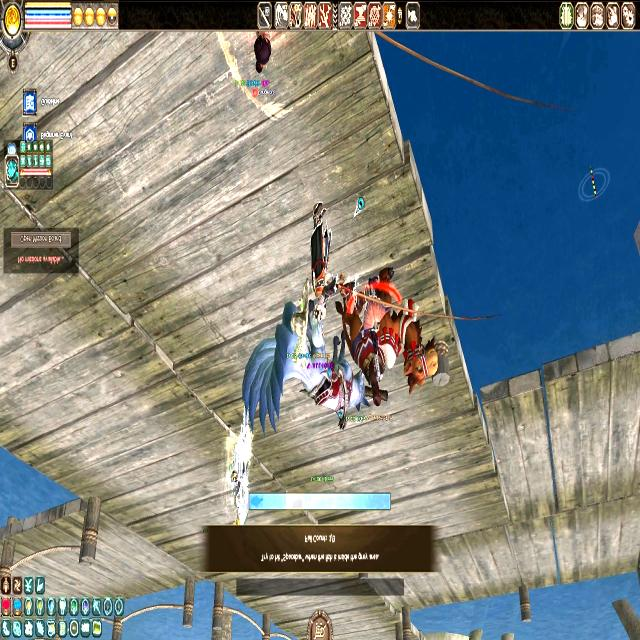fishes: (250, 494, 265, 510)
